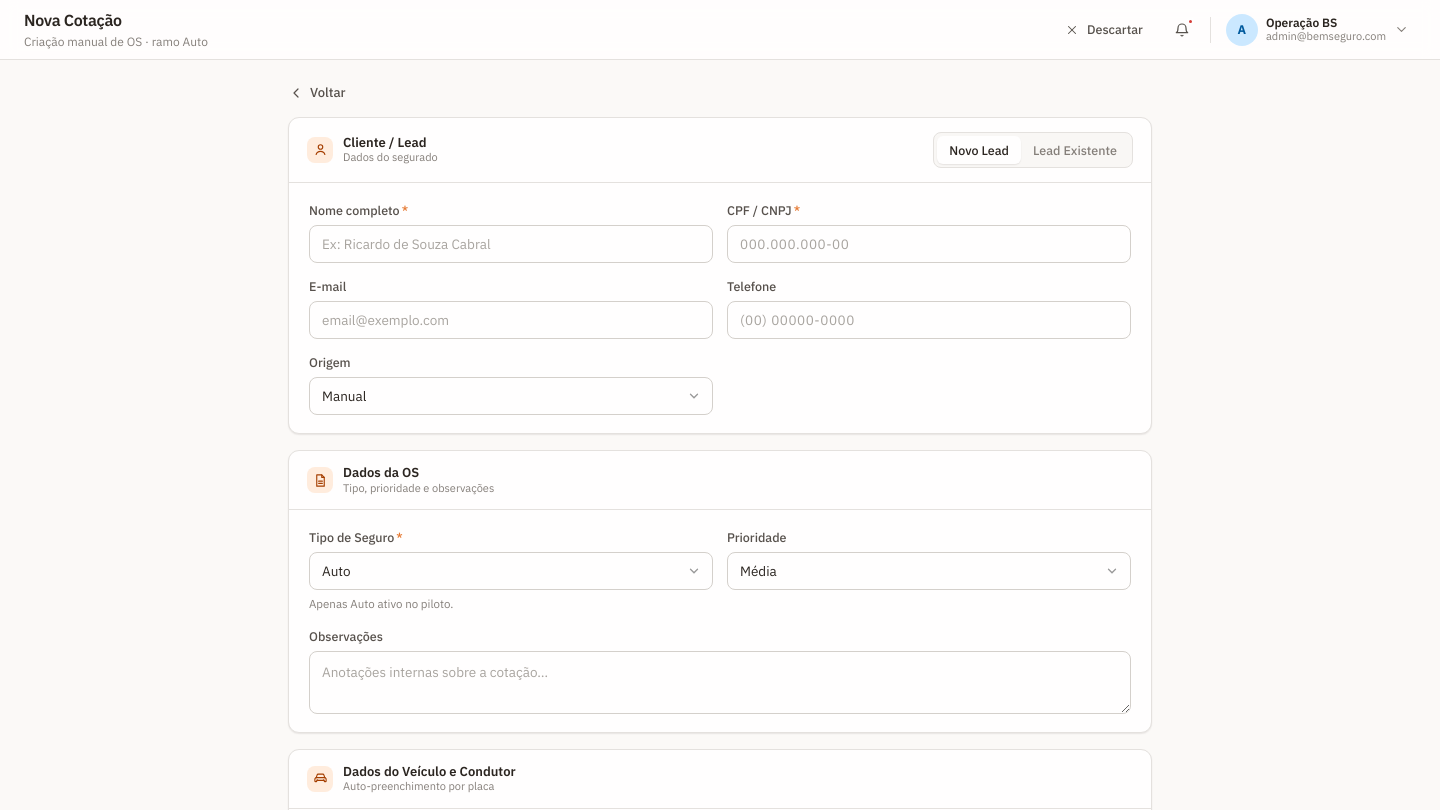
it: NovaCotacao › aplica máscara de CPF no input
Type "12345678900" into the field named "CPF / CNPJ" at (929, 244), box top-left (727, 225), bottom-right (1131, 263)
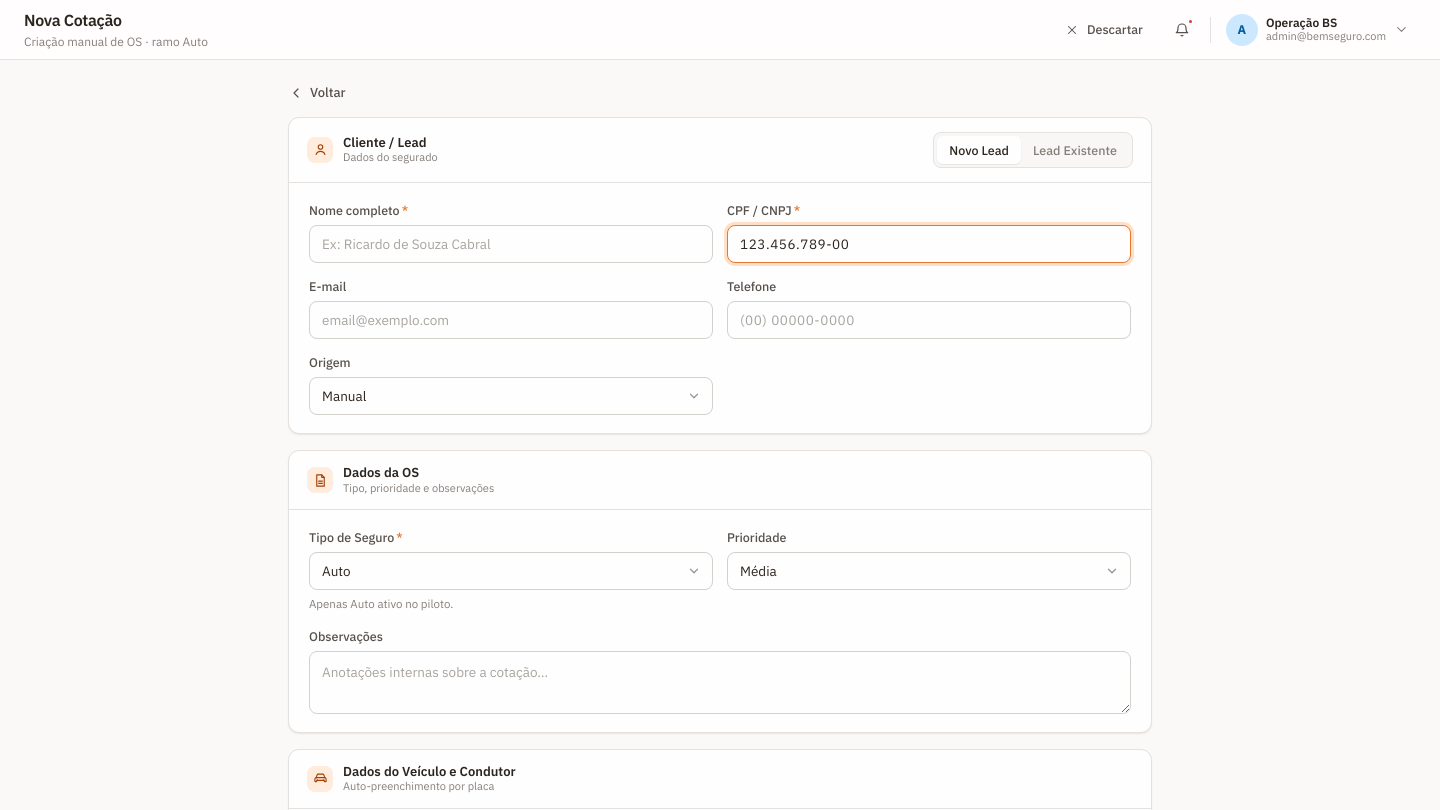
expect the field named "CPF / CNPJ" holds "123.456.789-00": met, box top-left (727, 225), bottom-right (1131, 263)
